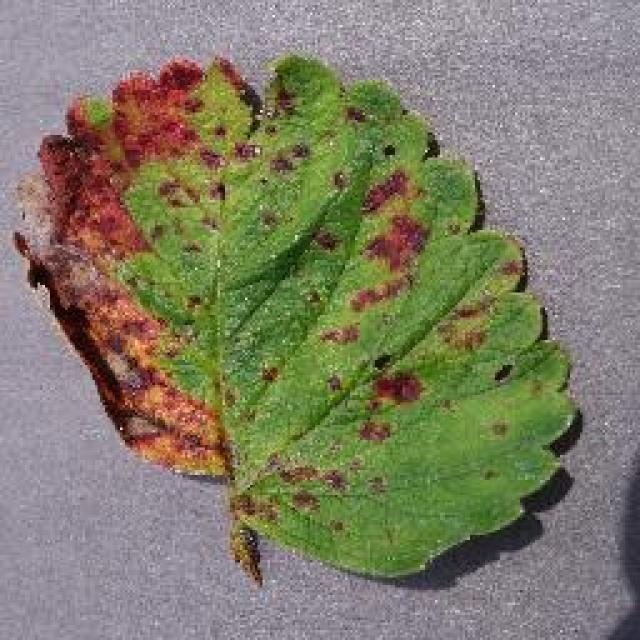Strawberry___Leaf_scorch: (2, 25, 590, 607)
